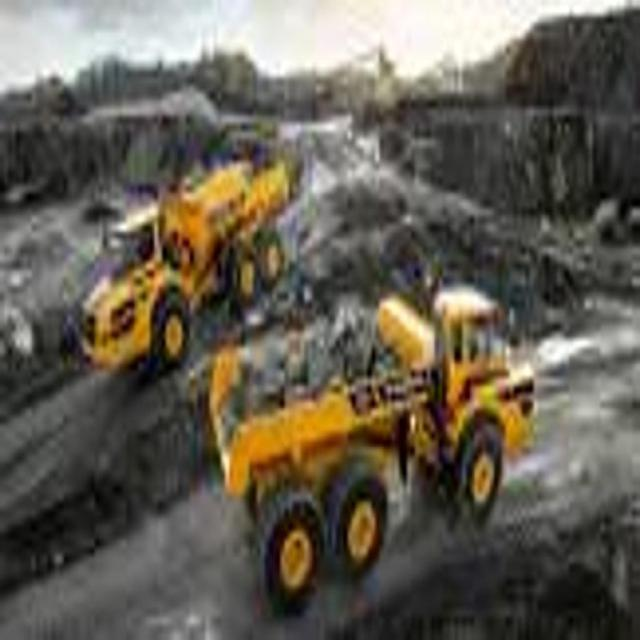dump_truck: (211, 270, 537, 614), (75, 128, 297, 380)
